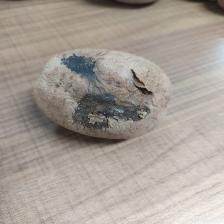Damaged potato: (27, 44, 176, 142)
